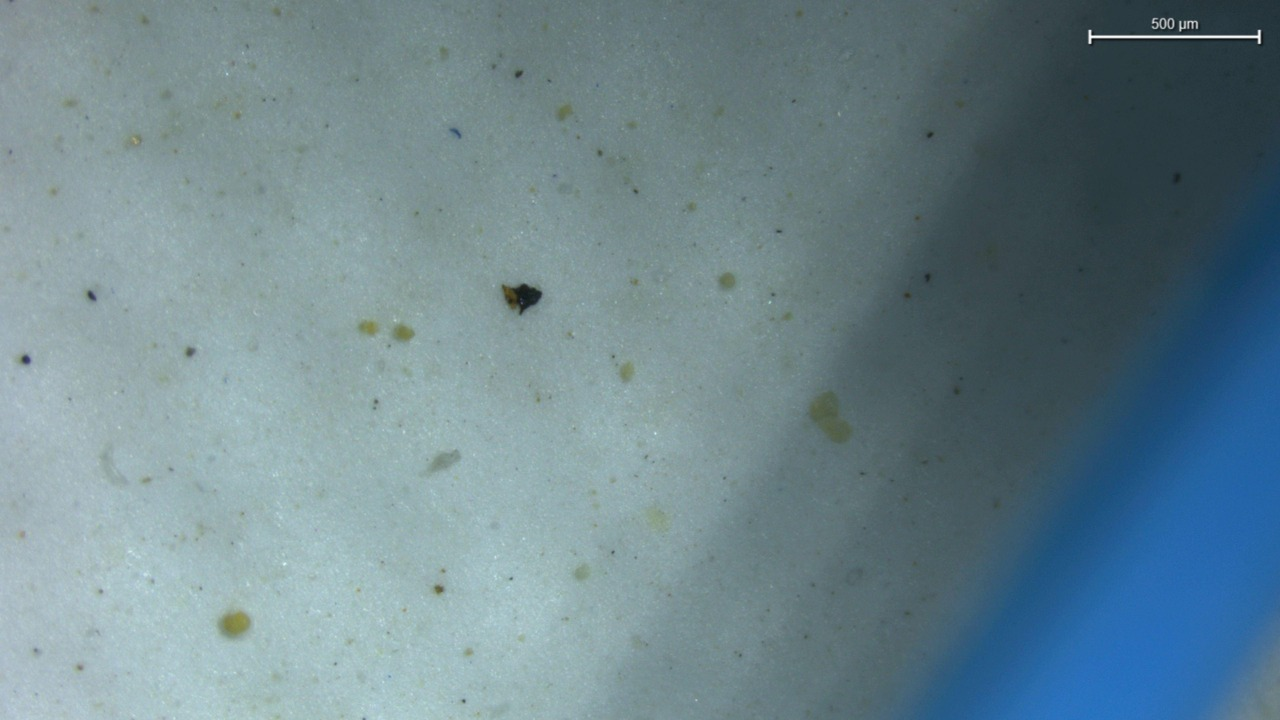microplastic_fragment: (502, 283, 542, 313)
